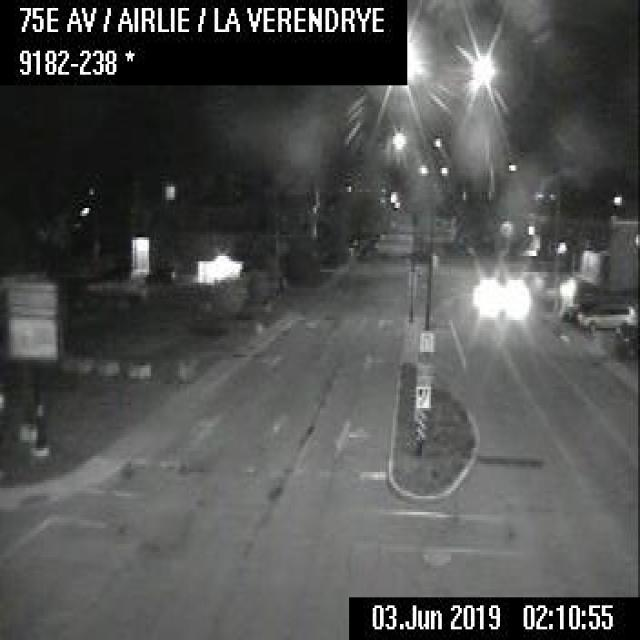vehicle: (577, 301, 636, 331)
